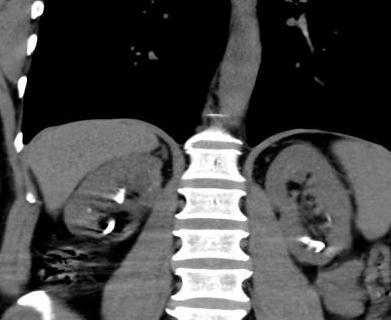Tas_Var: (308, 238, 328, 252), (102, 218, 115, 238), (112, 192, 128, 205), (299, 235, 311, 244), (118, 186, 126, 194), (85, 207, 93, 214)
